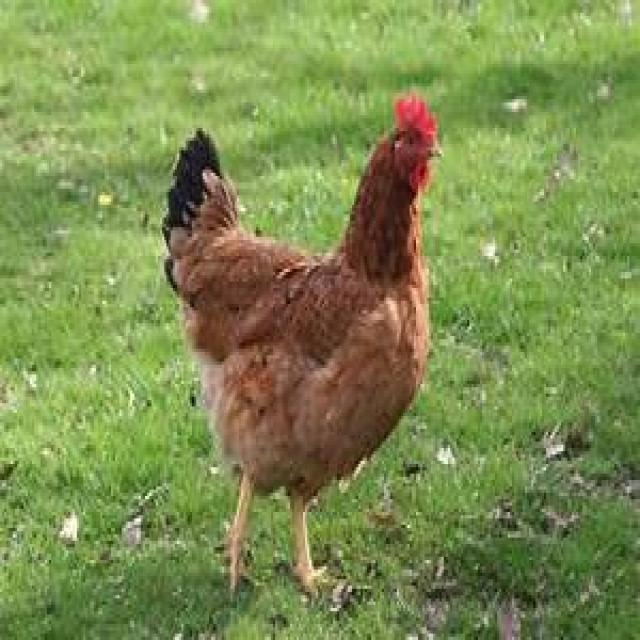hen: (165, 94, 439, 590)
